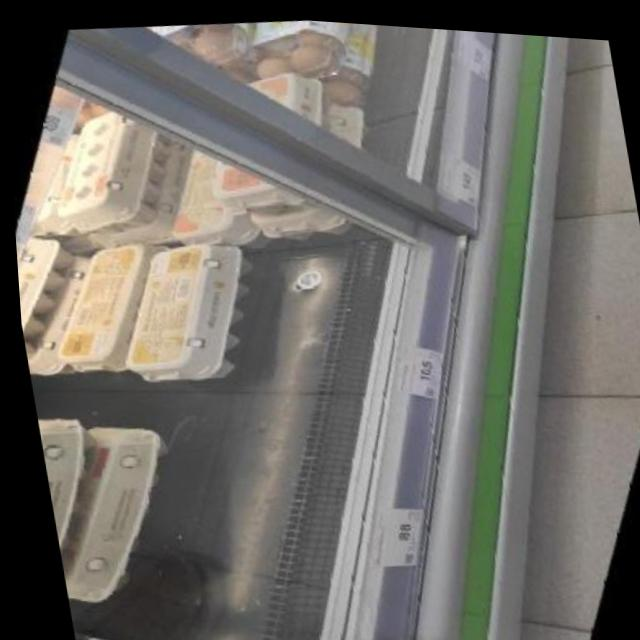Egg: (92, 220, 284, 403), (22, 224, 178, 388), (28, 397, 130, 613)
